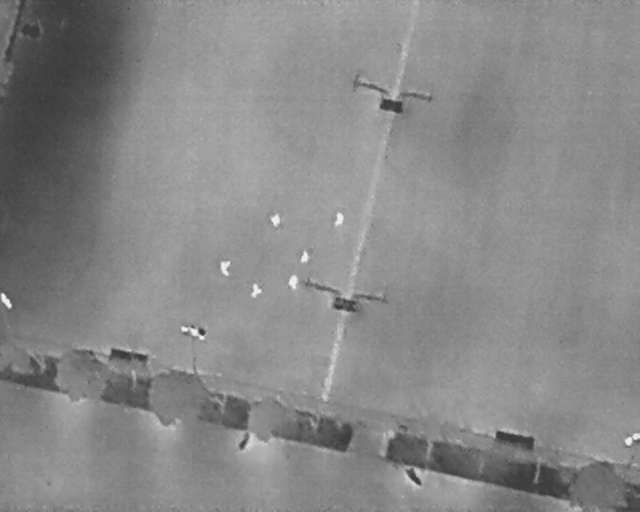Person: (333, 211, 345, 227), (220, 259, 231, 276), (288, 273, 299, 290), (270, 211, 281, 227), (251, 283, 262, 296), (300, 248, 310, 262)
